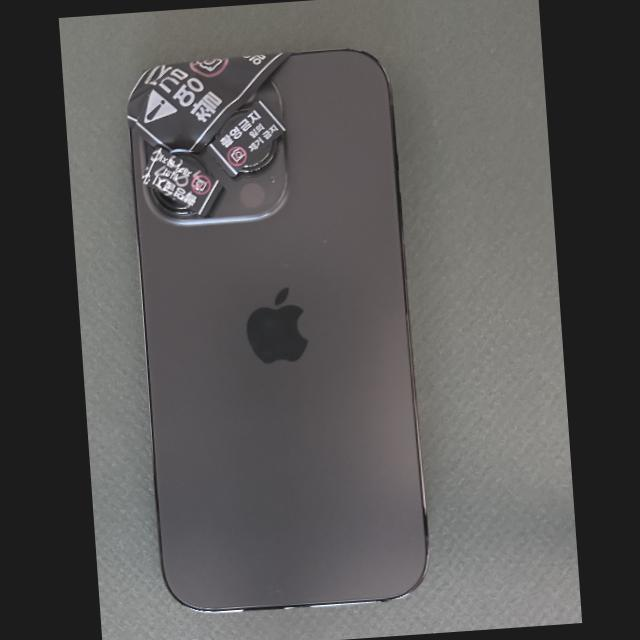lens: (241, 140, 277, 172), (153, 189, 196, 214)
phone: (127, 49, 427, 610)
sticker: (127, 52, 294, 153), (207, 100, 286, 177), (140, 146, 222, 216)
